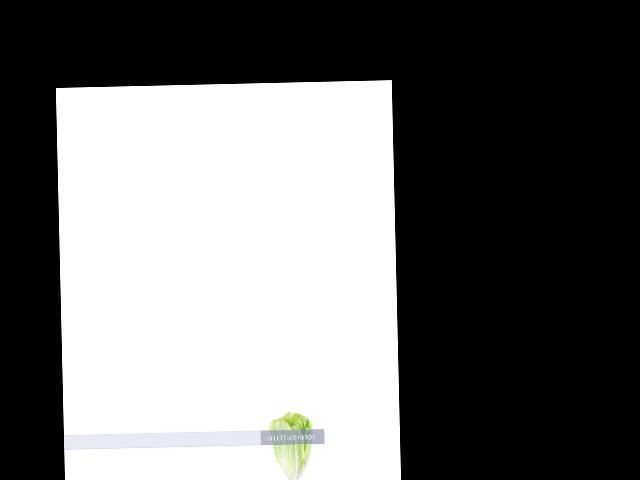lettuce: (267, 411, 317, 480)
